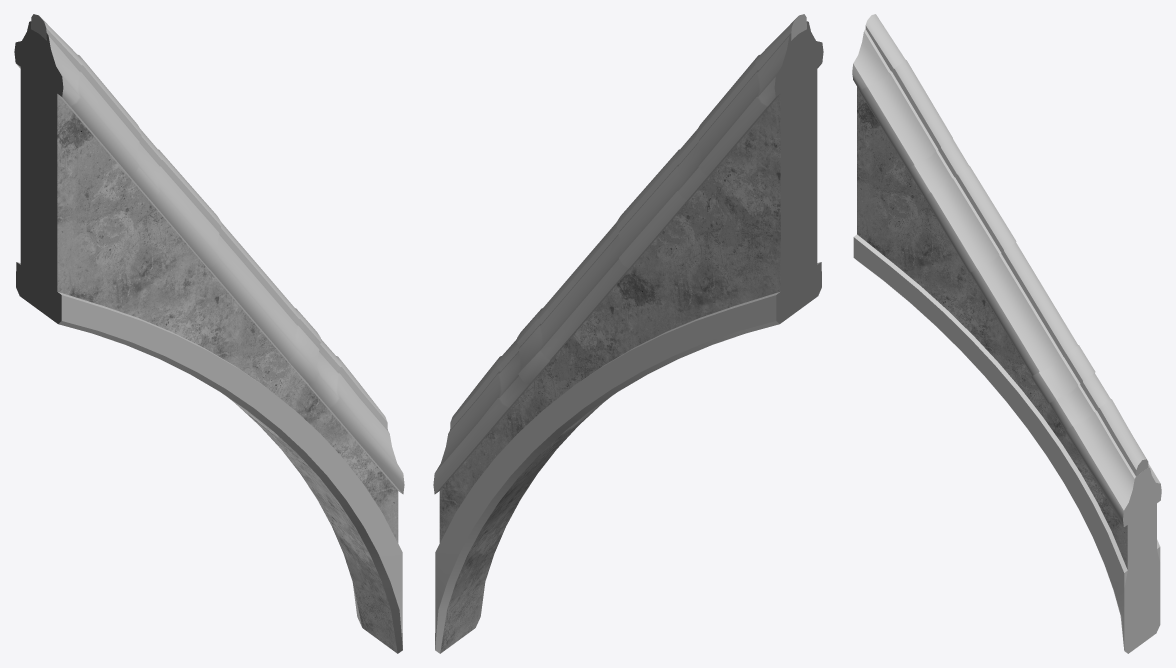
The model's file is SM_FlyingButtress_01.fbx.
3 views of the same model, side by side, from view 1: azimuth 30°, elevation 25°; view 2: azimuth 150°, elevation 25°; view 3: azimuth 330°, elevation 25° (orthographic). The views are drawn at different scales.
Parts seen in each view (by area): view 1: SM_FlyingButtress_01_LOD0; view 2: SM_FlyingButtress_01_LOD0; view 3: SM_FlyingButtress_01_LOD0.
Boxes of the visible parts, x1,y1,x2,y2 form: SM_FlyingButtress_01_LOD0: (14, 14, 404, 653); SM_FlyingButtress_01_LOD0: (433, 14, 823, 653); SM_FlyingButtress_01_LOD0: (852, 14, 1161, 653).
Size of the model in its own units: 818 by 212 by 1624.
